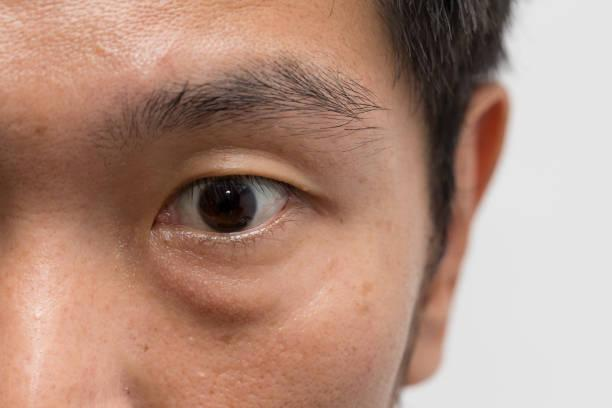Dry-Skin: (141, 18, 348, 229), (194, 244, 310, 372), (337, 296, 439, 408), (23, 3, 111, 132), (60, 277, 147, 376)
